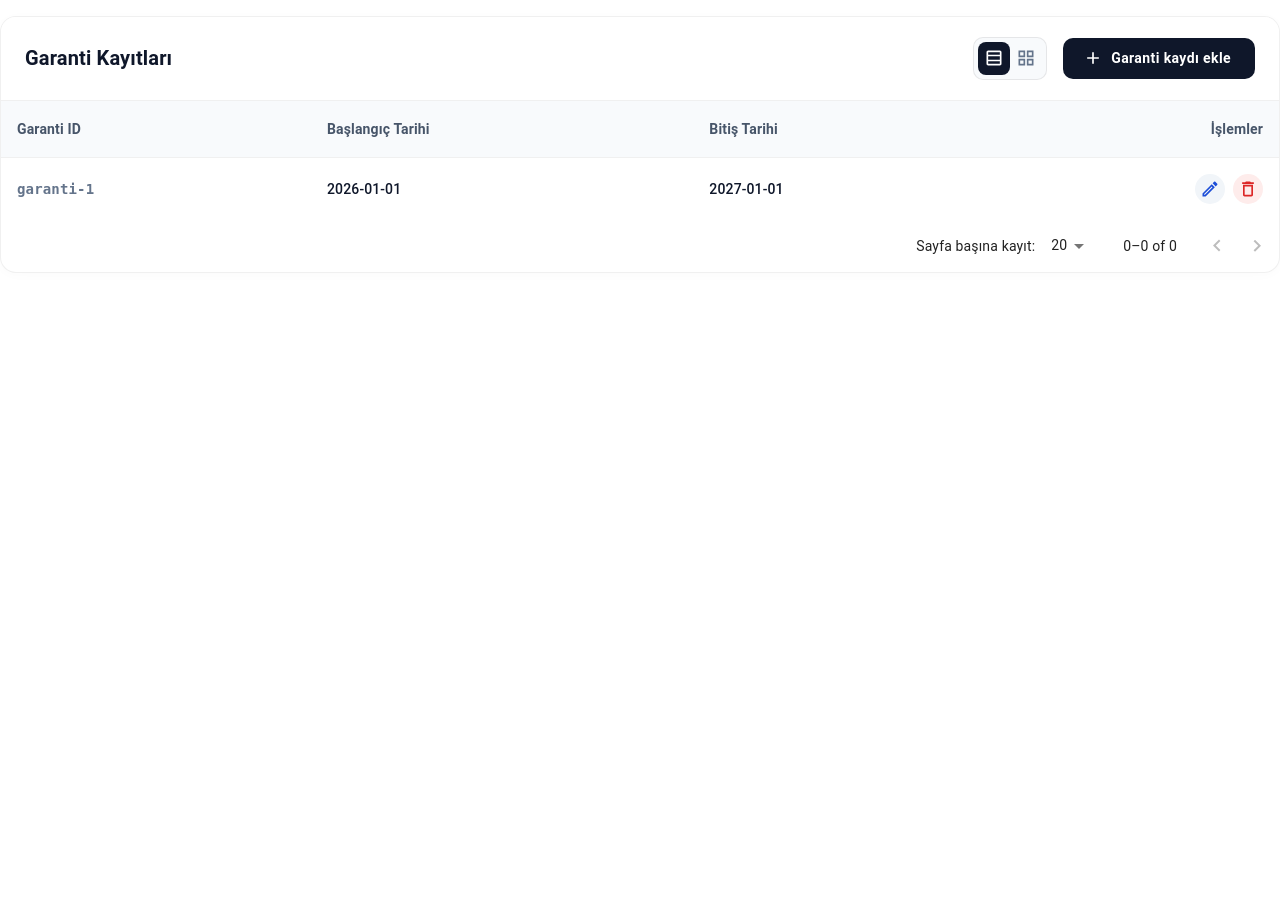
Test: WarrantyList Bileşeni › Silme işleminde yetkisizlik (403) hatası alındığında uygun uyarı gösterilmelidir
The width and height of the screenshot is (1280, 900).
Click the button named "Sil": [1248, 189] box [1233,174,1263,204]
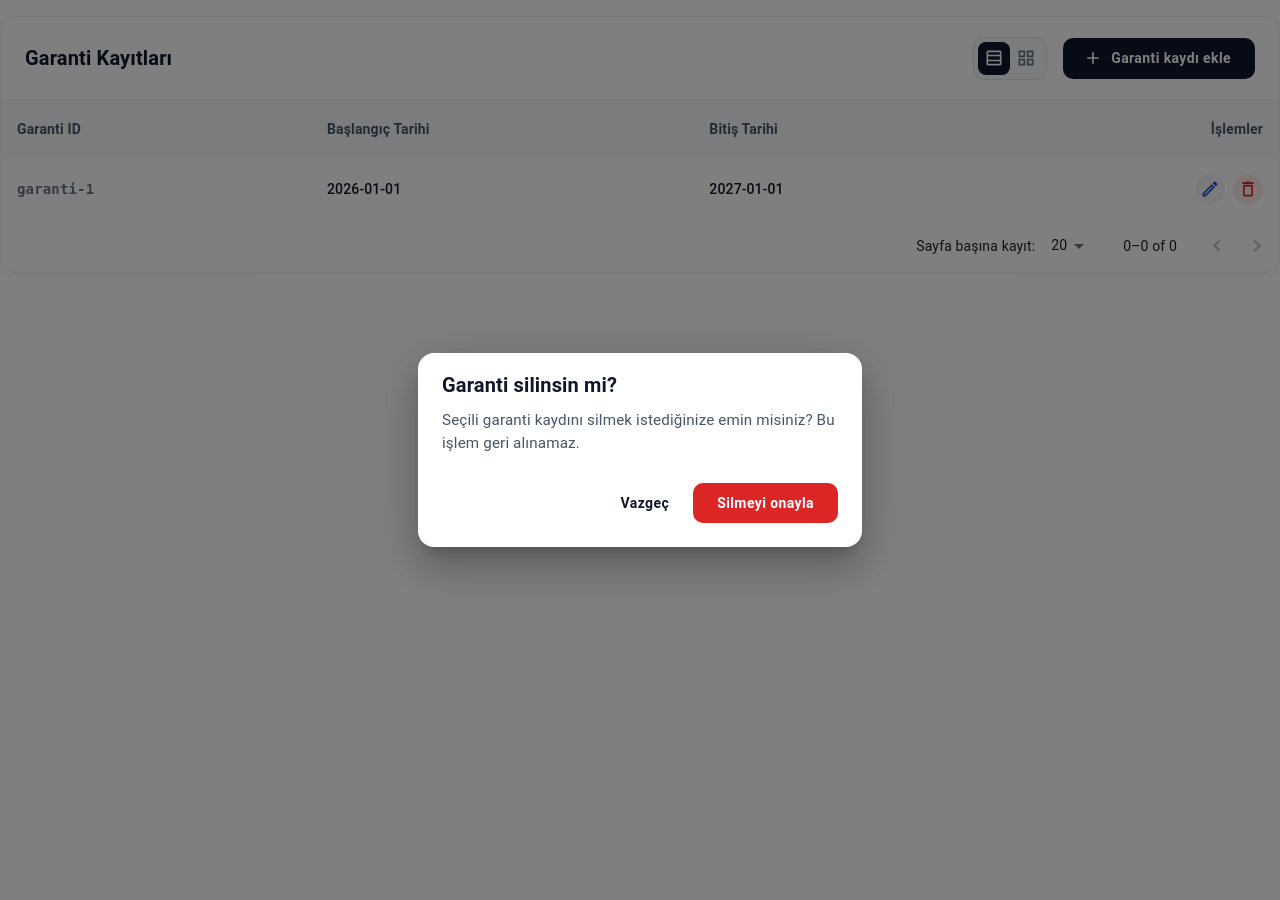
Click the button "Silmeyi onayla": [766, 503] box [693,482,838,523]
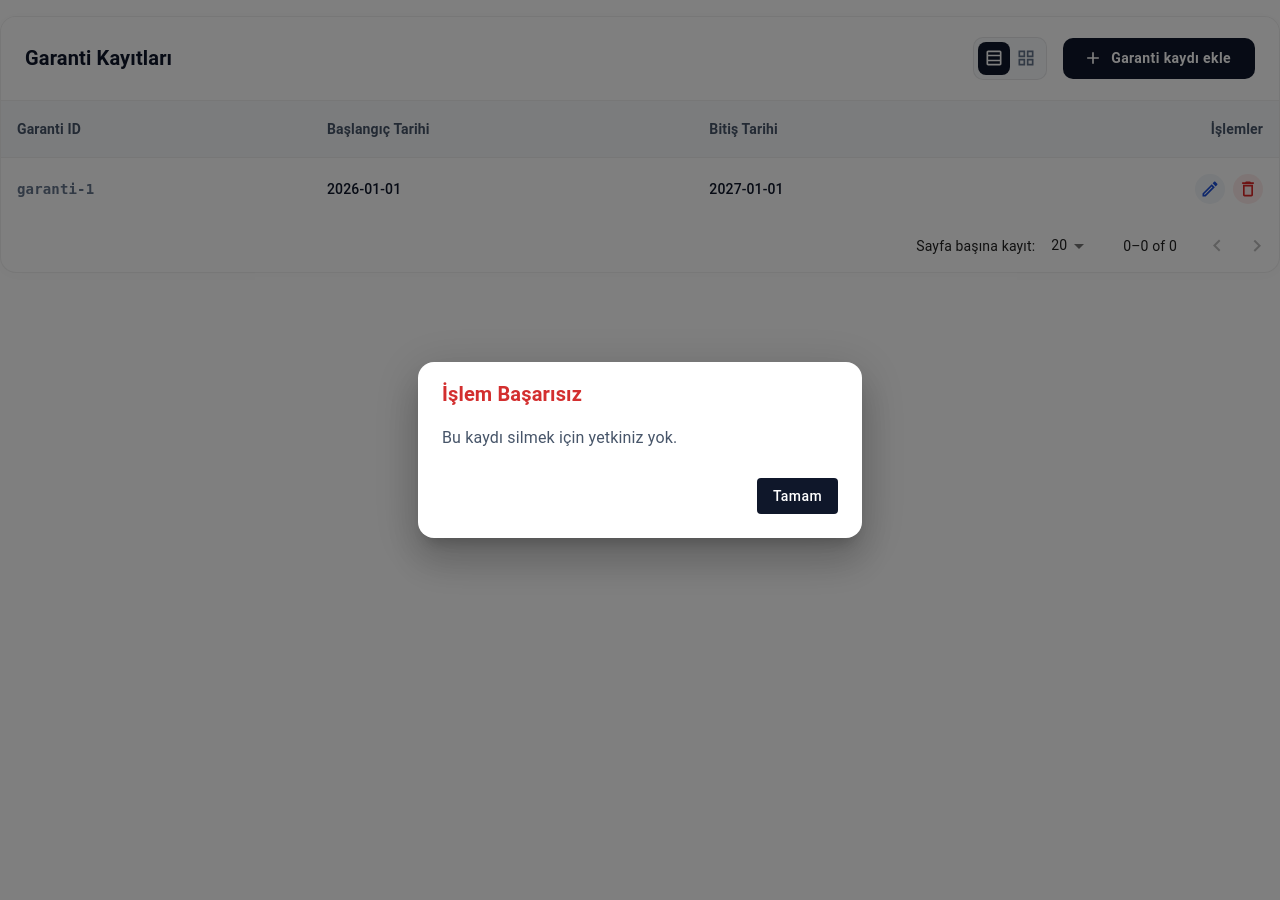
Check: the text "Bu kaydı silmek için yetkiniz yok." is shown, box [442,428,677,447]
